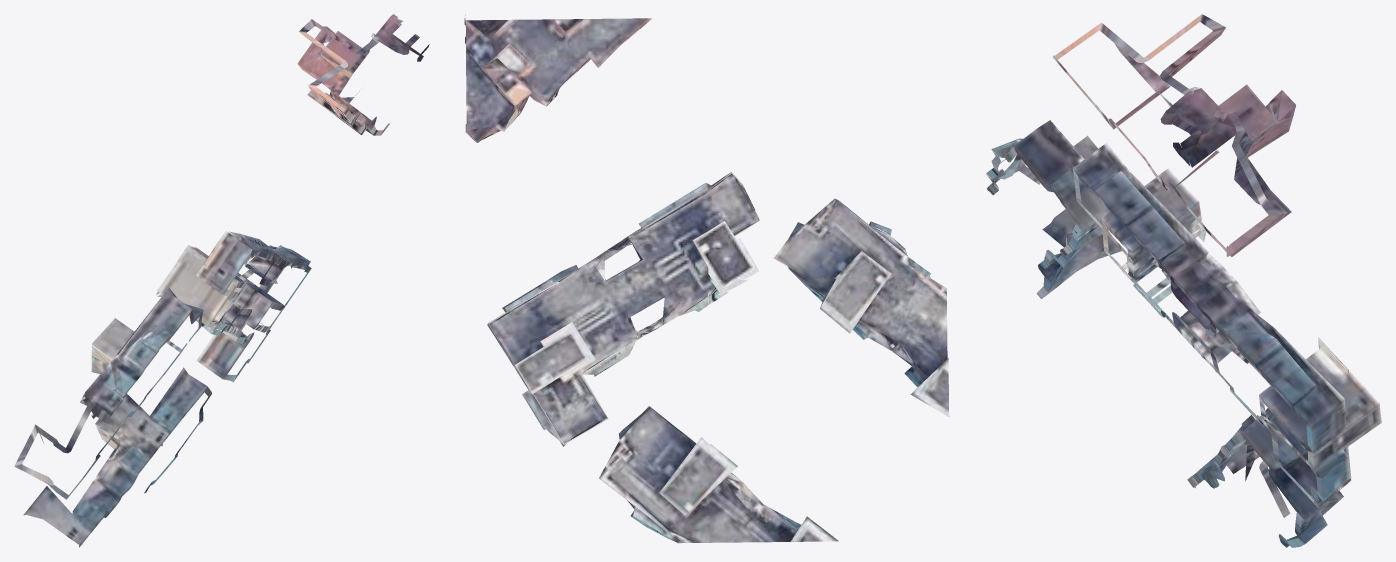
3 views of the same model, side by side, from view 1: azimuth 30°, elevation 25°; view 2: azimuth 150°, elevation 25°; view 3: azimuth 270°, elevation 25° (orthographic). The views are drawn at different scales.
Bounding box in the file's own units: 76.58 × 76.1 × 44.55.
1 material, 1 textured.
